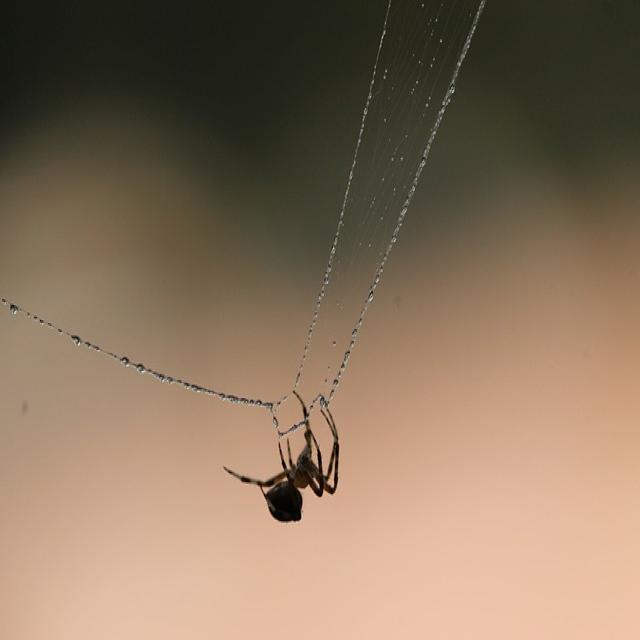spyder: (224, 422, 338, 523)
